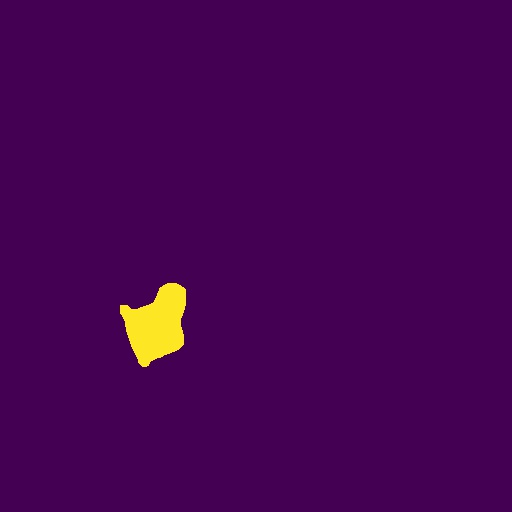Menigiomia_tumour: (120, 283, 186, 367)
